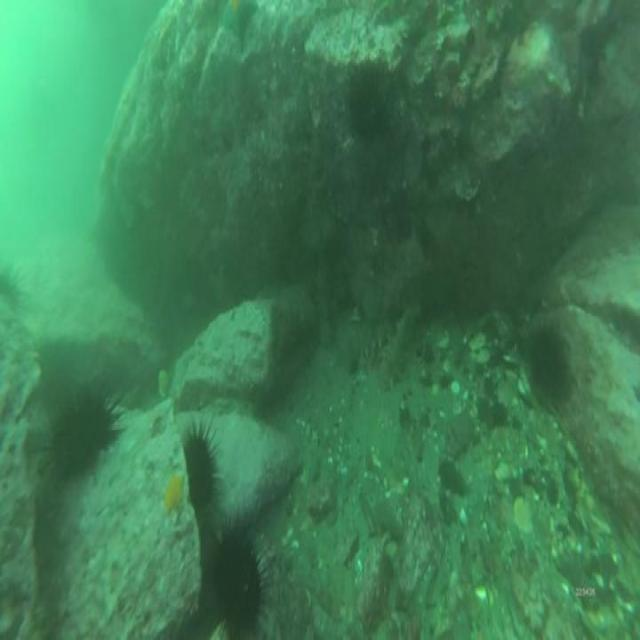echinus: (212, 528, 263, 638), (49, 394, 115, 466), (524, 327, 572, 397), (347, 76, 388, 144), (188, 433, 218, 510)
holothurian: (381, 299, 417, 387), (341, 327, 392, 365)
